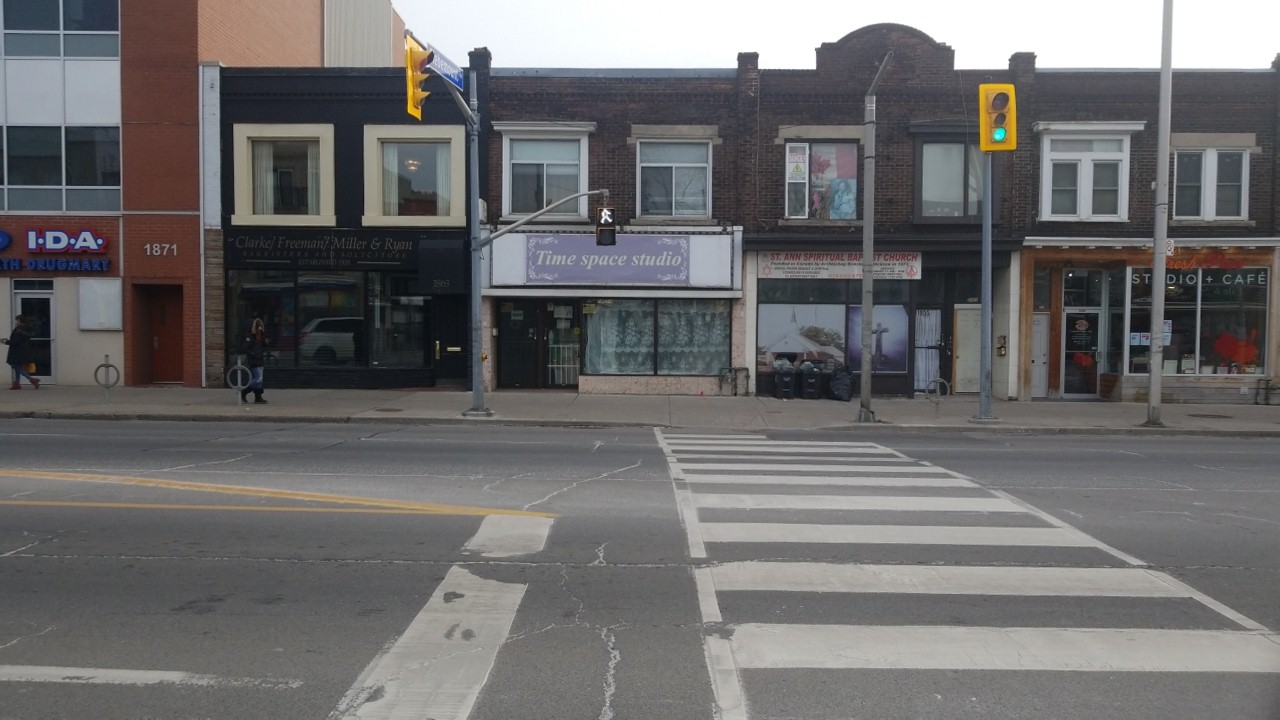light: (591, 202, 618, 248)
